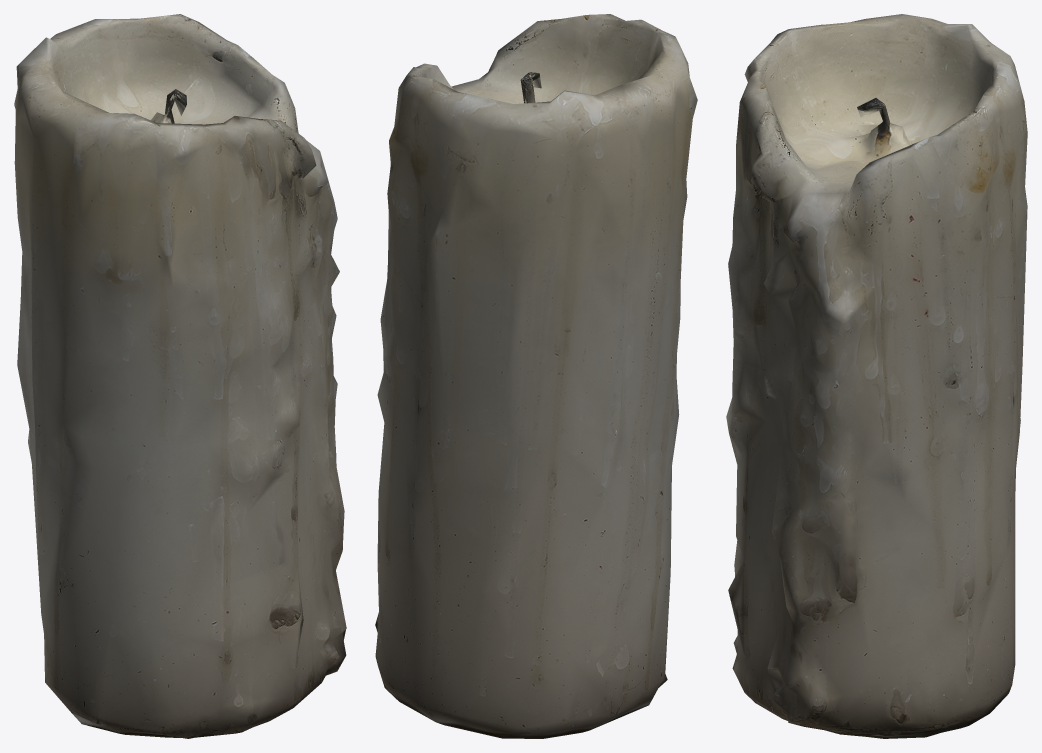
The model's file is sm_Candle_01_01.fbx.
3 renders of one model, left to right at view 1: azimuth 30°, elevation 25°; view 2: azimuth 150°, elevation 25°; view 3: azimuth 270°, elevation 25°, orthographic. The views are drawn at different scales.
Visible parts, largest first — view 1: sm_Candle_01_01_LOD0; view 2: sm_Candle_01_01_LOD0; view 3: sm_Candle_01_01_LOD0.
Part boxes in pixels (<box>): sm_Candle_01_01_LOD0: <box>14,14,346,738</box>; sm_Candle_01_01_LOD0: <box>375,14,697,738</box>; sm_Candle_01_01_LOD0: <box>726,14,1027,738</box>.
Size of the model in its own units: 9.88 by 9.13 by 21.32.
